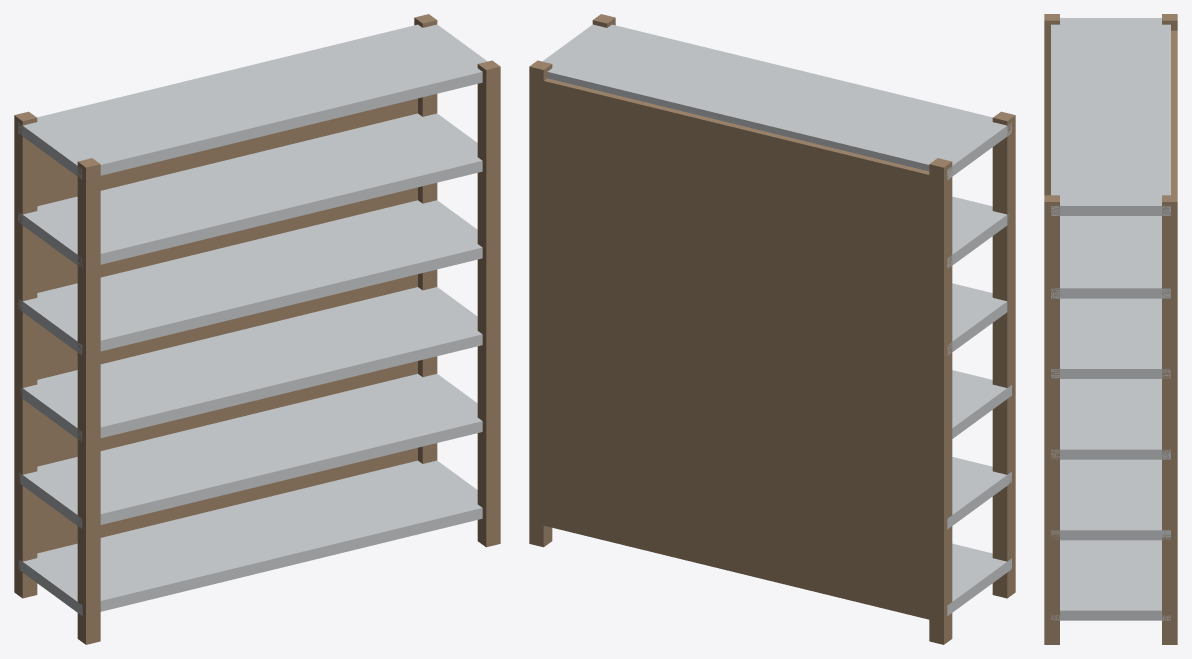
The picture shows the model from 3 angles, left to right: view 1: azimuth 30°, elevation 25°; view 2: azimuth 150°, elevation 25°; view 3: azimuth 270°, elevation 25°; orthographic projection. The views are drawn at different scales.
Visible parts, largest first — view 1: 层板_5, 背板, 层板_0.001, 层板_3.001, 层板_4, 层板_1.001, 层板_2.001, 立柱_-10_-3, 立柱_9_-3, 立柱_-10_2, 立柱_9_2; view 2: 背板, 层板_5, 立柱_-10_2, 立柱_-10_-3, 立柱_9_2, 层板_0.001, 层板_1.001, 层板_4, 层板_3.001, 层板_2.001; view 3: 层板_5, 层板_4, 层板_1.001, 层板_2.001, 层板_3.001, 层板_0.001, 立柱_9_-3, 立柱_9_2, 背板, 立柱_-10_-3, 立柱_-10_2.
Boxes of the visible parts, <box> form: 层板_5: <box>18,24,487,179</box>; 背板: <box>14,98,417,572</box>; 层板_0.001: <box>18,460,482,615</box>; 层板_3.001: <box>18,200,482,355</box>; 层板_4: <box>18,113,482,268</box>; 层板_1.001: <box>19,374,482,529</box>; 层板_2.001: <box>19,287,482,441</box>; 立柱_-10_-3: <box>77,158,100,644</box>; 立柱_9_-3: <box>477,60,500,547</box>; 立柱_-10_2: <box>14,111,37,598</box>; 立柱_9_2: <box>414,14,437,463</box>; 背板: <box>530,78,947,622</box>; 层板_5: <box>542,24,1011,179</box>; 立柱_-10_2: <box>929,158,952,644</box>; 立柱_-10_-3: <box>992,111,1015,598</box>; 立柱_9_2: <box>529,60,552,547</box>; 层板_0.001: <box>947,543,1011,615</box>; 层板_1.001: <box>947,457,1011,529</box>; 层板_4: <box>947,196,1009,268</box>; 层板_3.001: <box>947,283,1007,355</box>; 层板_2.001: <box>952,370,1011,438</box>; 层板_5: <box>1051,18,1170,215</box>; 层板_4: <box>1051,216,1170,298</box>; 层板_1.001: <box>1051,459,1170,540</box>; 层板_2.001: <box>1051,379,1170,459</box>; 层板_3.001: <box>1051,298,1170,378</box>; 层板_0.001: <box>1051,540,1170,620</box>; 立柱_9_-3: <box>1044,195,1059,644</box>; 立柱_9_2: <box>1162,195,1177,644</box>; 背板: <box>1171,30,1177,624</box>; 立柱_-10_-3: <box>1044,14,1059,195</box>; 立柱_-10_2: <box>1162,14,1177,30</box>.
Size of the model in its own units: 200 by 220 by 60.
